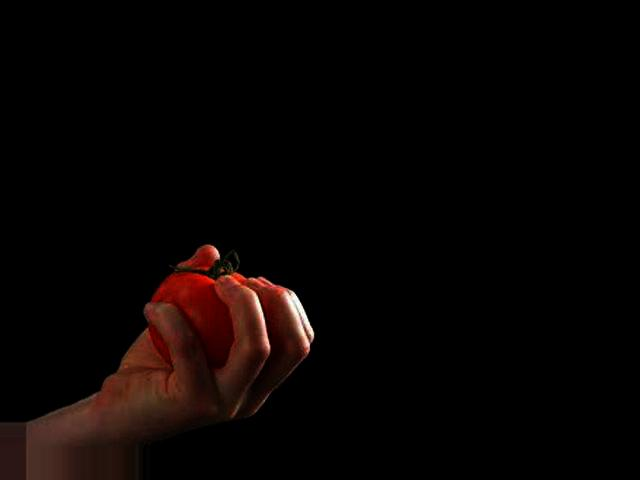tomato: (147, 271, 247, 371)
